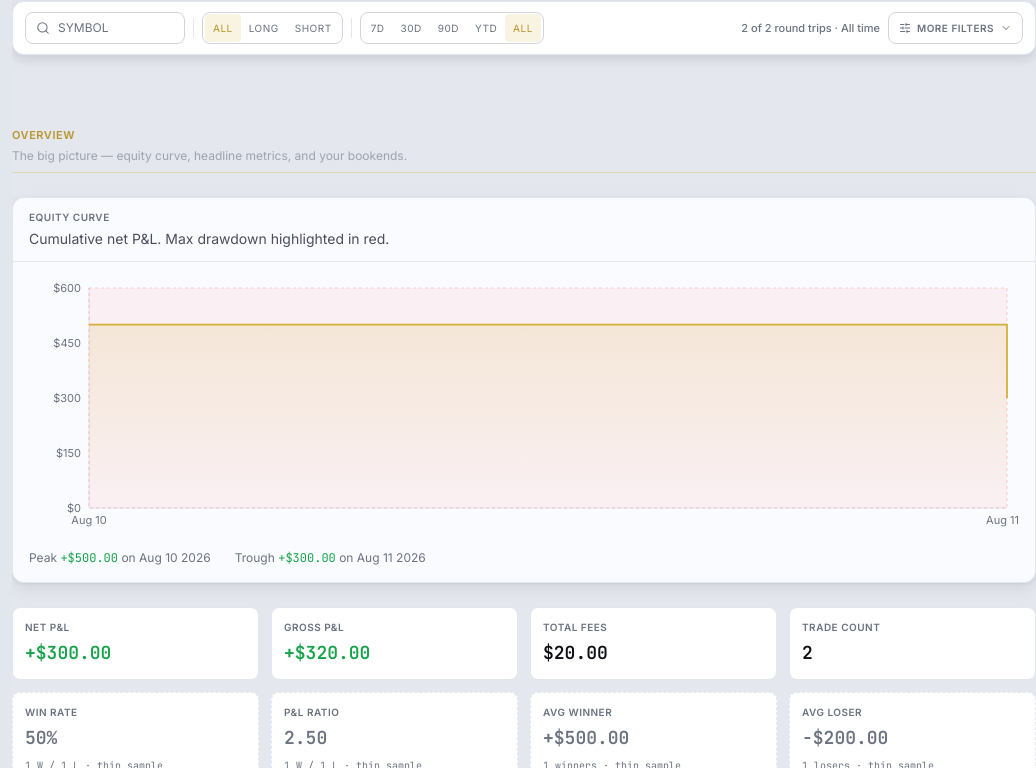
Test: T5 the MORE FILTERS panel does not change the bar own height › a click on the backdrop closes it
Click the button "More filters". click: (955, 28)
box: [888,12,1023,44]
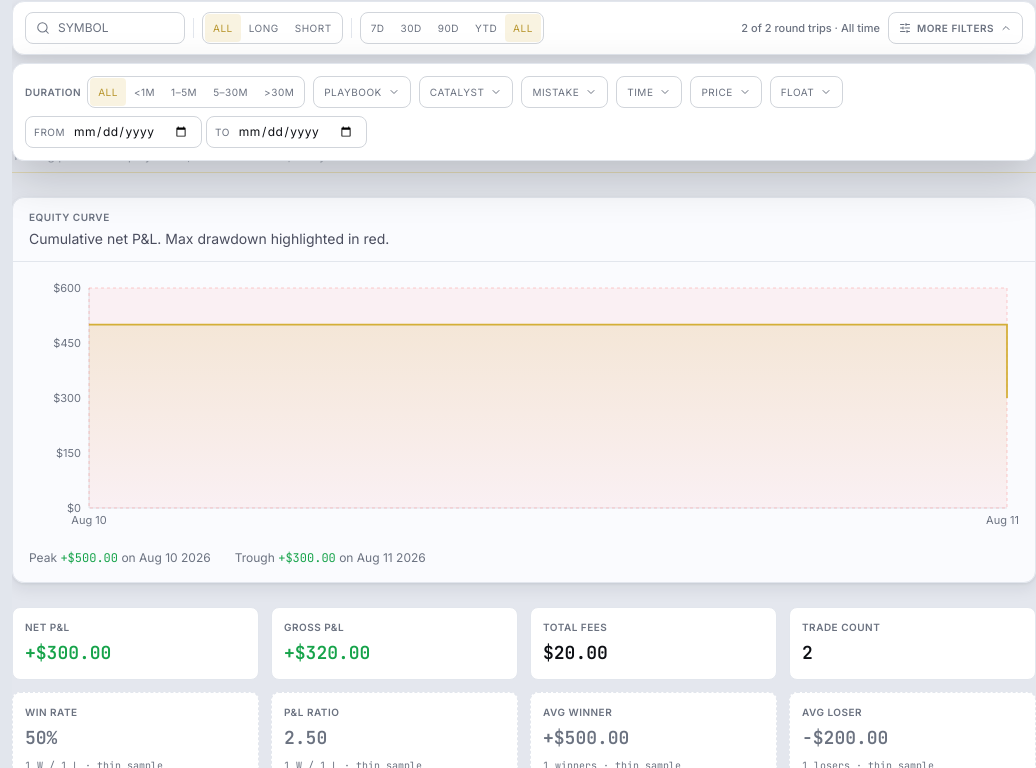
Result: the element with test id "overview-more-panel" is shown at [12,63,1035,161]
Click the element with test id "overview-more-backdrop". click: (524, 384)
box: [12,0,1035,767]
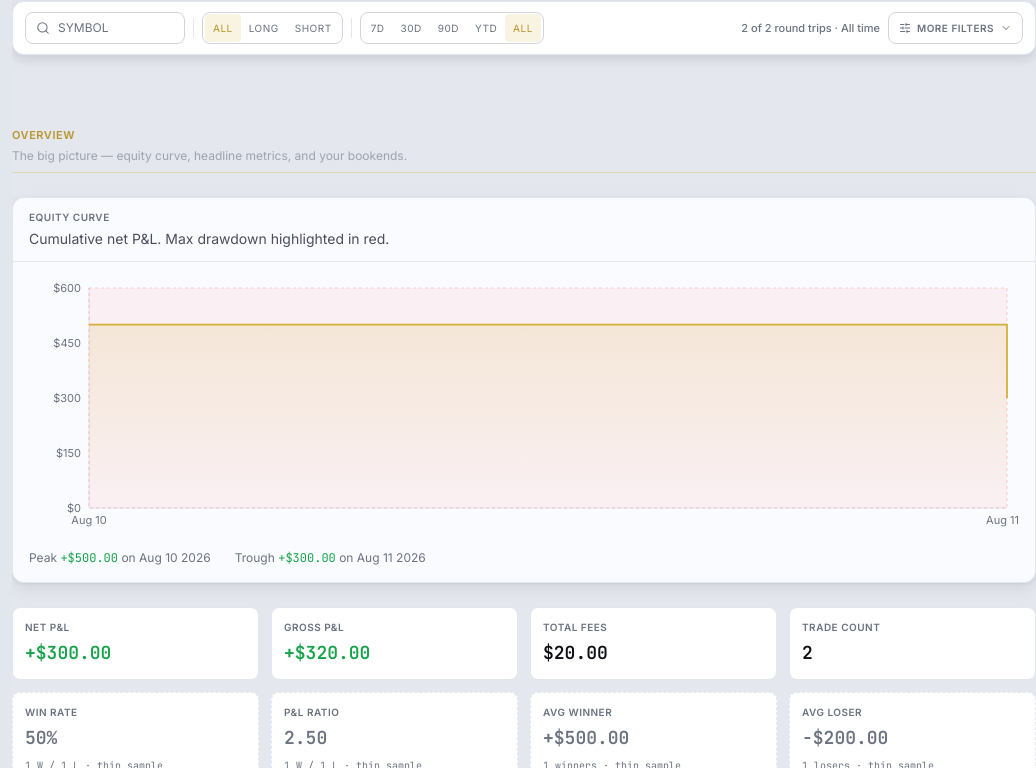
Result: the element with test id "overview-more-panel" is gone
